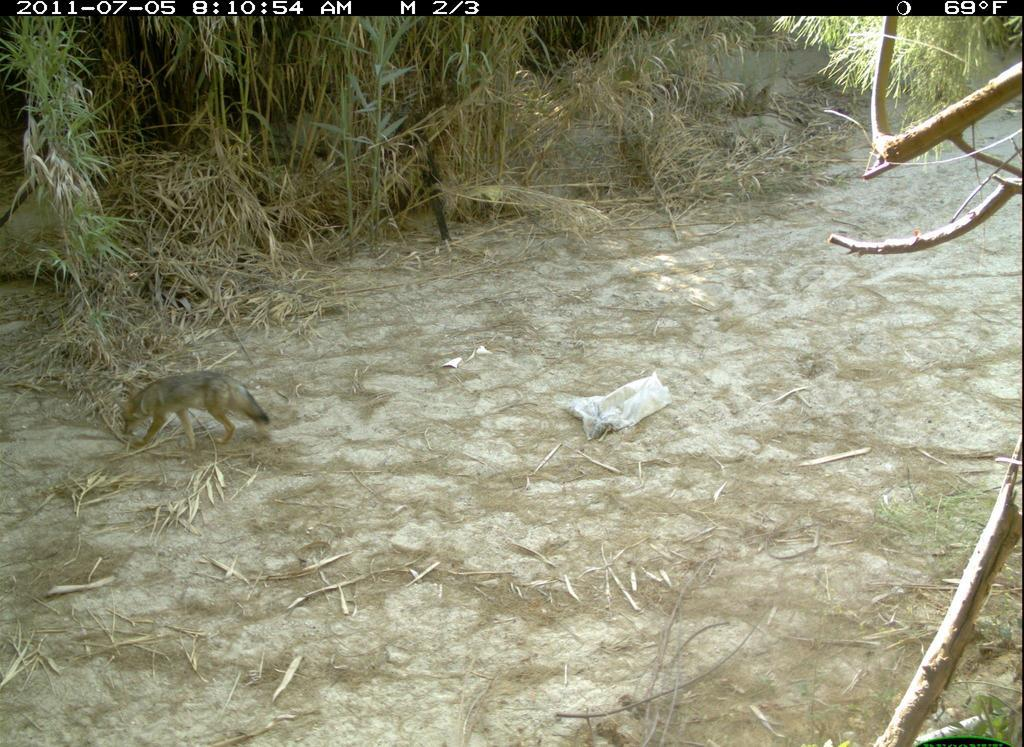coyote: (116, 365, 277, 461)
